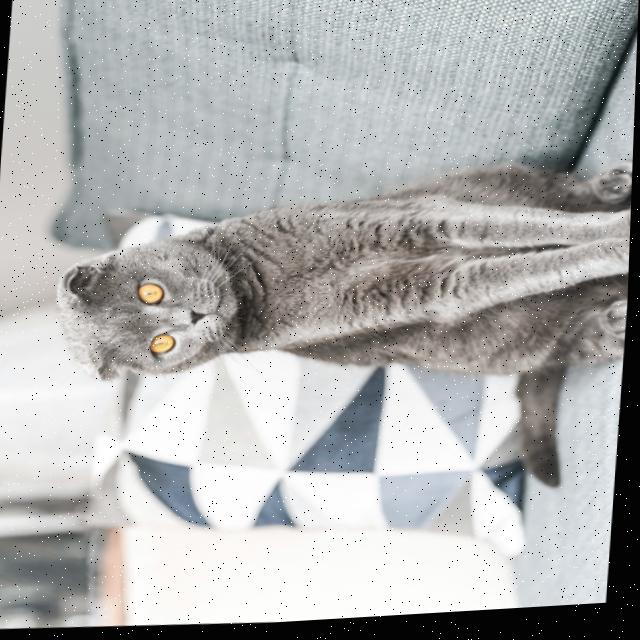Scottish Fold: (38, 143, 635, 525)
